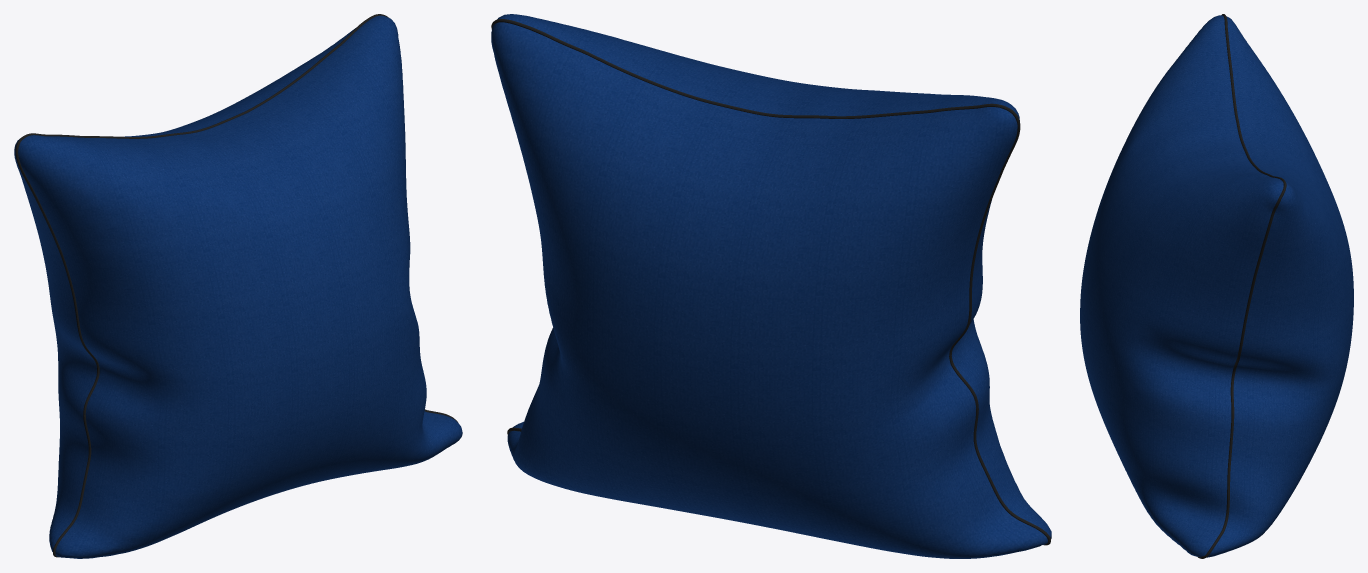
File: andie.gltf
The picture shows the model from 3 angles, left to right: view 1: azimuth 30°, elevation 25°; view 2: azimuth 150°, elevation 25°; view 3: azimuth 270°, elevation 25°; orthographic projection. The views are drawn at different scales.
Visible parts, largest first — view 1: Mesh; view 2: Mesh; view 3: Mesh.
Part boxes in pixels (left/top/right/bottom): Mesh: left=14, top=14, right=462, bottom=558; Mesh: left=491, top=14, right=1051, bottom=558; Mesh: left=1080, top=14, right=1353, bottom=558.
Bounding box in the file's own units: 0.6067 × 0.5285 × 0.3625.
1 material, 1 textured.
